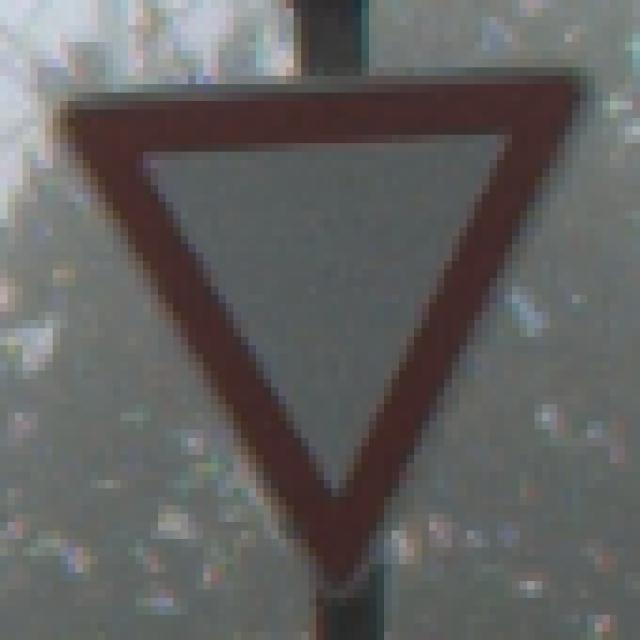Give Way: (54, 52, 588, 591)
